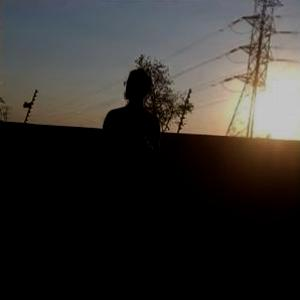follow: (77, 61, 164, 283)
